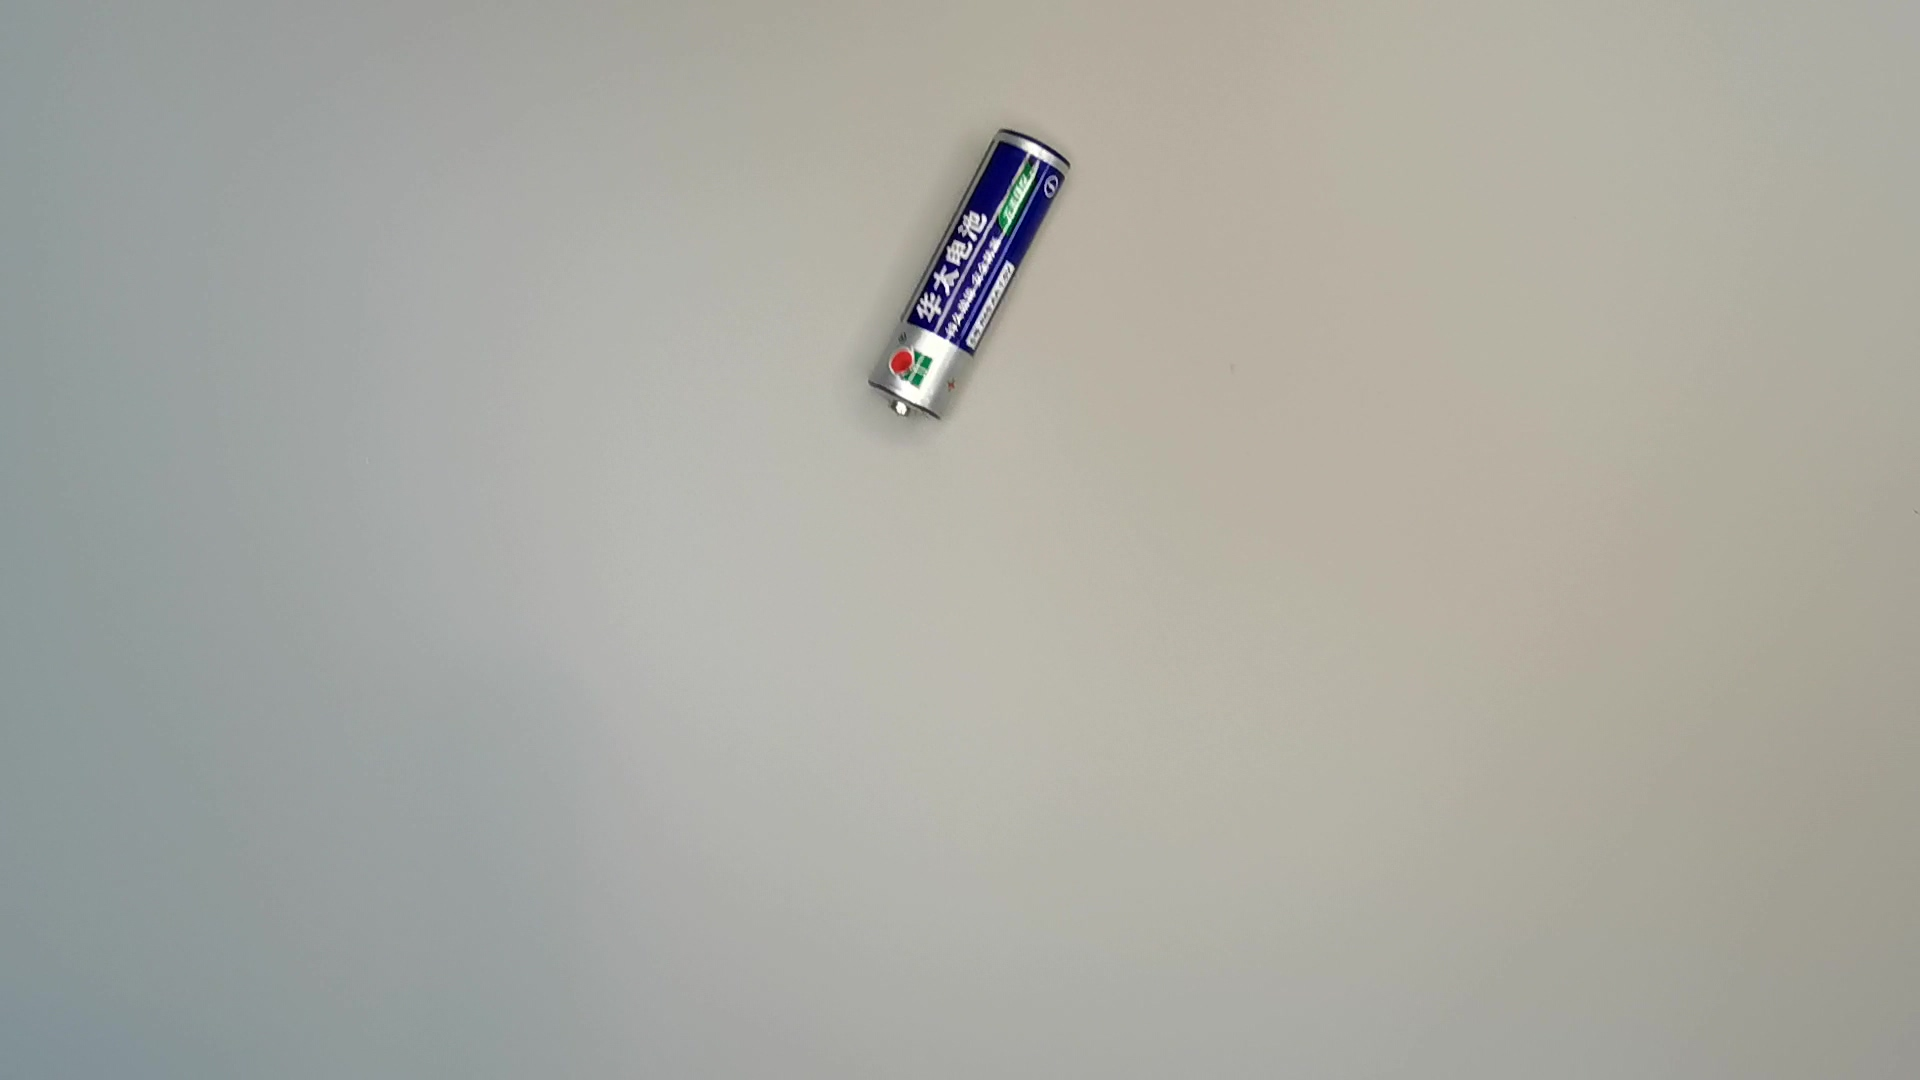battery: (858, 116, 1080, 426)
